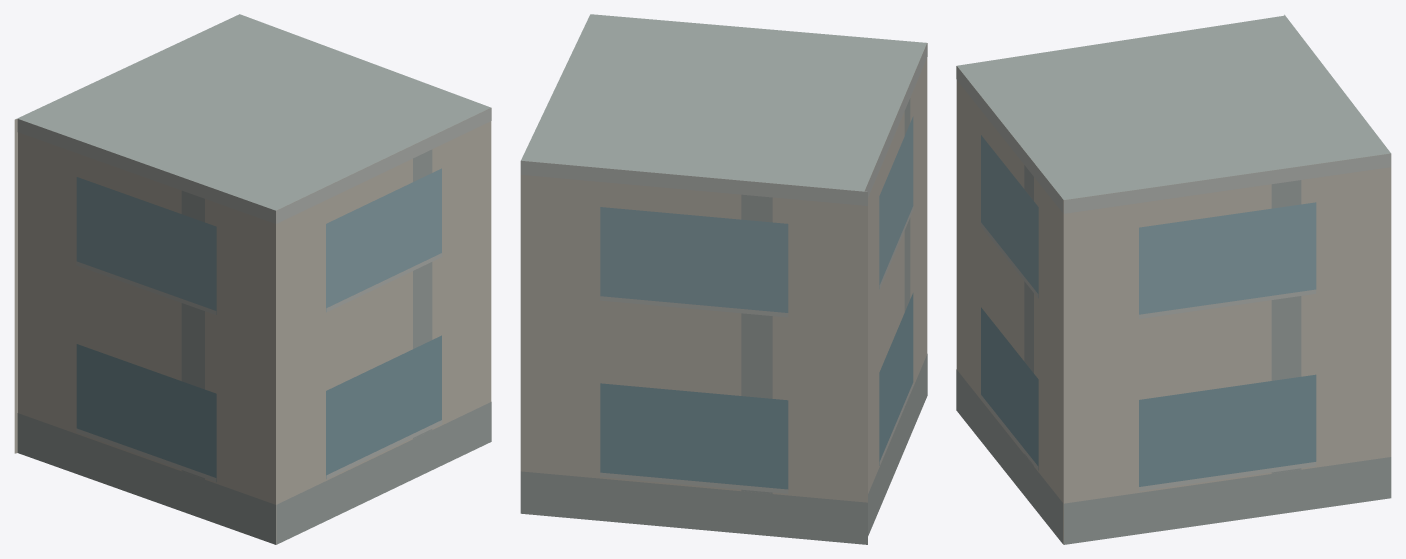
Rendered from survey-upis-32932170.glb.
The picture shows the model from 3 angles, left to right: view 1: azimuth 30°, elevation 25°; view 2: azimuth 150°, elevation 25°; view 3: azimuth 270°, elevation 25°; orthographic projection. The views are drawn at different scales.
Visible parts, largest first — view 1: survey-upis-32932170.tmp; view 2: survey-upis-32932170.tmp; view 3: survey-upis-32932170.tmp.
Boxes of the visible parts, x1=… form: survey-upis-32932170.tmp: x1=14, y1=14, x2=491, y2=544; survey-upis-32932170.tmp: x1=520, y1=14, x2=927, y2=544; survey-upis-32932170.tmp: x1=956, y1=14, x2=1391, y2=544.
Bounding box in the file's own units: 7.07 × 6.1 × 6.98.
